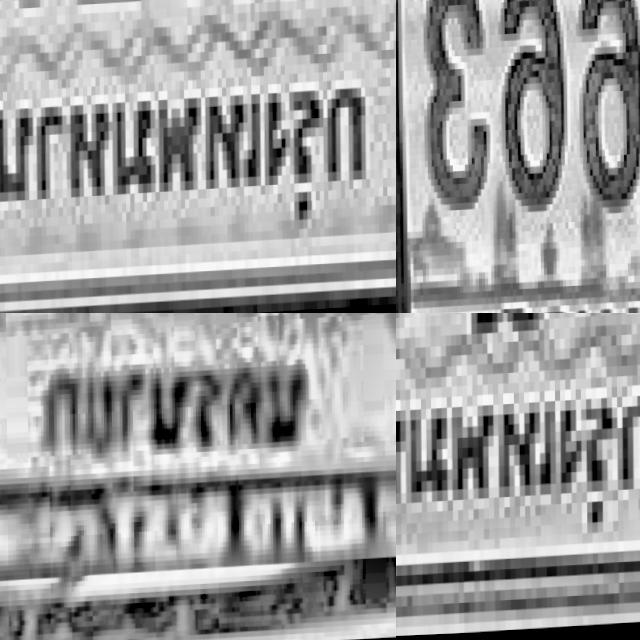license-plate: (0, 0, 396, 313), (0, 313, 396, 572), (396, 0, 640, 313), (396, 313, 640, 613)
